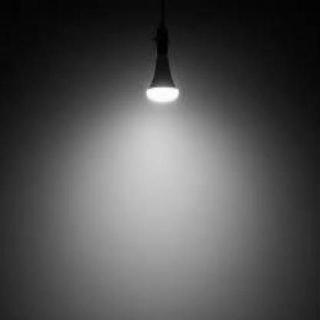other: (90, 84, 232, 277)
